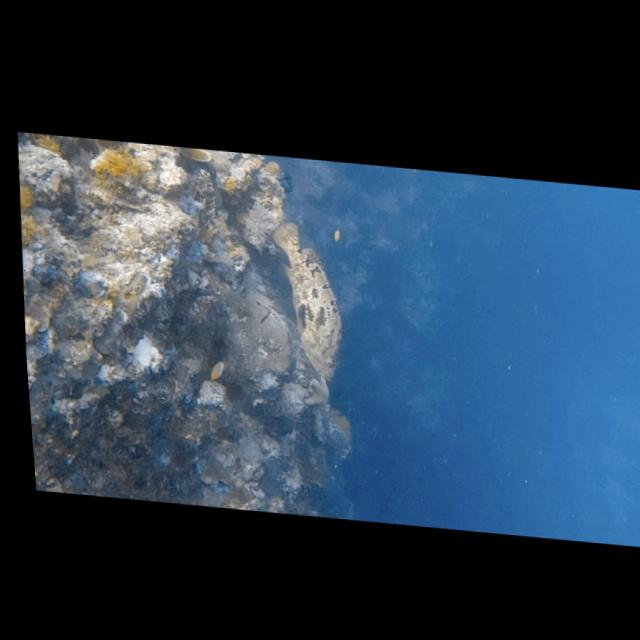Groupers: (261, 217, 350, 380)
